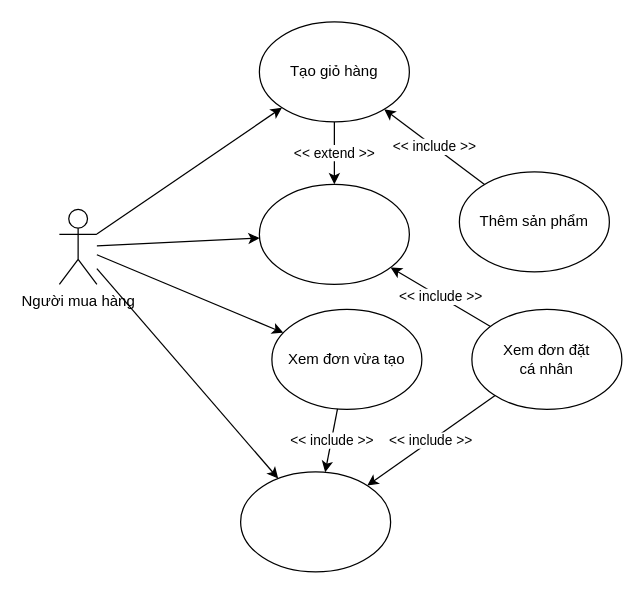
Some shapes in this 644 by 594 pixel diagram are drawn without their labels. Each missing label, with the centre of its shape:
"Tạo đơn" belongs at (315,521).
"Đăng nhập" belongs at (333,233).
